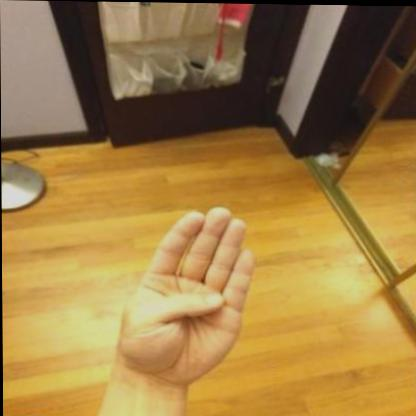B: (104, 201, 262, 397)
